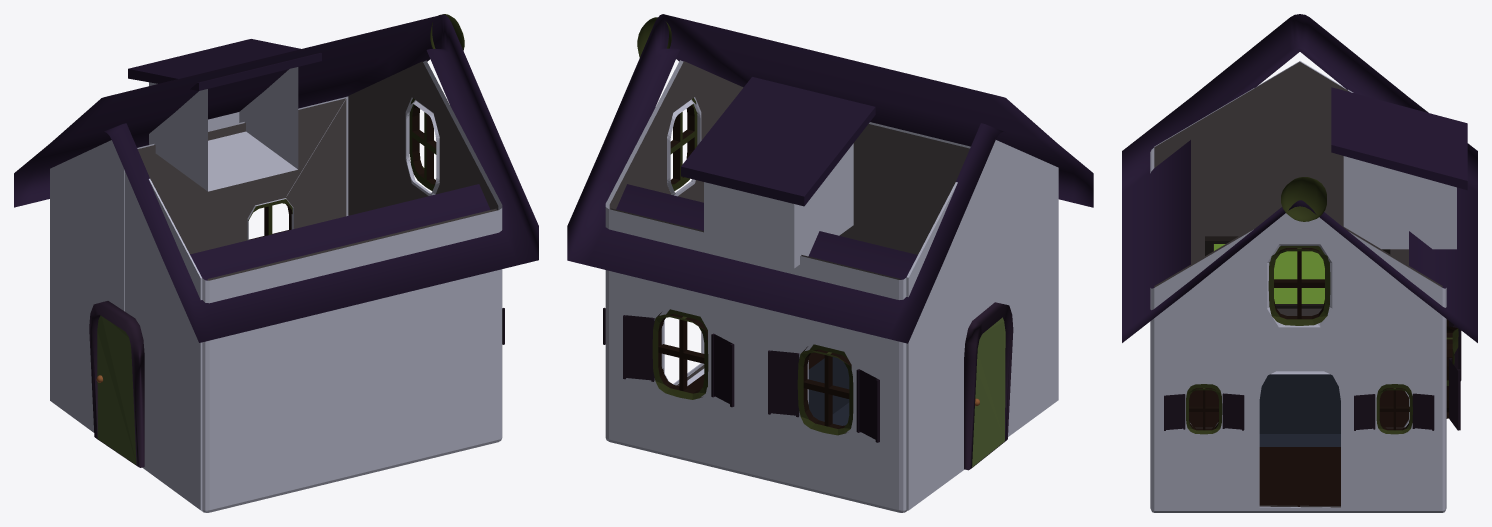
Rendered from House2.obj.
3 views of the same model, side by side, from view 1: azimuth 30°, elevation 25°; view 2: azimuth 150°, elevation 25°; view 3: azimuth 270°, elevation 25° (orthographic). The views are drawn at different scales.
Parts seen in each view (by area): view 1: House4, roof, wall6, Cube.016, wall3, door.001, wall5, Cube.001, doorframe.001, window.004, wall7; view 2: House4, roof, Cube.001, wall7, Cube.016, wall6, door.001, doorframe.001, window.003, window.002, panebackground.006, panebackground.004 (+4 smaller); view 3: House4, roof, wall1, Cube.001, Cube.016, floor, Cube.003, window.004, Cube, Sphere.001, window.001, window (+8 smaller).
Part boxes in pixels (left/top/right/bottom): House4: left=50, top=60, right=502, bottom=512; roof: left=14, top=14, right=538, bottom=342; wall6: left=348, top=61, right=498, bottom=215; Cube.016: left=149, top=67, right=298, bottom=191; wall3: left=137, top=98, right=345, bottom=254; door.001: left=97, top=315, right=136, bottom=464; wall5: left=286, top=99, right=346, bottom=228; Cube.001: left=128, top=39, right=321, bottom=90; doorframe.001: left=89, top=301, right=144, bottom=467; window.004: left=409, top=98, right=436, bottom=190; wall7: left=207, top=208, right=496, bottom=280; House4: left=605, top=60, right=1058, bottom=512; roof: left=567, top=14, right=1093, bottom=343; Cube.001: left=681, top=77, right=875, bottom=206; wall7: left=839, top=124, right=969, bottom=254; Cube.016: left=704, top=143, right=853, bottom=268; wall6: left=609, top=61, right=743, bottom=385; door.001: left=972, top=317, right=1005, bottom=467; doorframe.001: left=964, top=302, right=1013, bottom=470; window.003: left=797, top=344, right=853, bottom=435; window.002: left=652, top=309, right=708, bottom=399; panebackground.006: left=768, top=350, right=799, bottom=417; panebackground.004: left=623, top=315, right=654, bottom=381; House4: left=1150, top=61, right=1446, bottom=512; roof: left=1122, top=14, right=1477, bottom=342; wall1: left=1154, top=62, right=1408, bottom=315; Cube.001: left=1331, top=87, right=1467, bottom=190; Cube.016: left=1343, top=156, right=1456, bottom=249; floor: left=1189, top=390, right=1408, bottom=506; Cube.003: left=1259, top=374, right=1340, bottom=446; window.004: left=1268, top=246, right=1330, bottom=325; Cube: left=1214, top=244, right=1324, bottom=303; Sphere.001: left=1281, top=177, right=1326, bottom=221; window.001: left=1376, top=384, right=1412, bottom=434; window: left=1186, top=384, right=1222, bottom=434.
Bounding box in the file's own units: 1.29 × 1.27 × 1.16.
